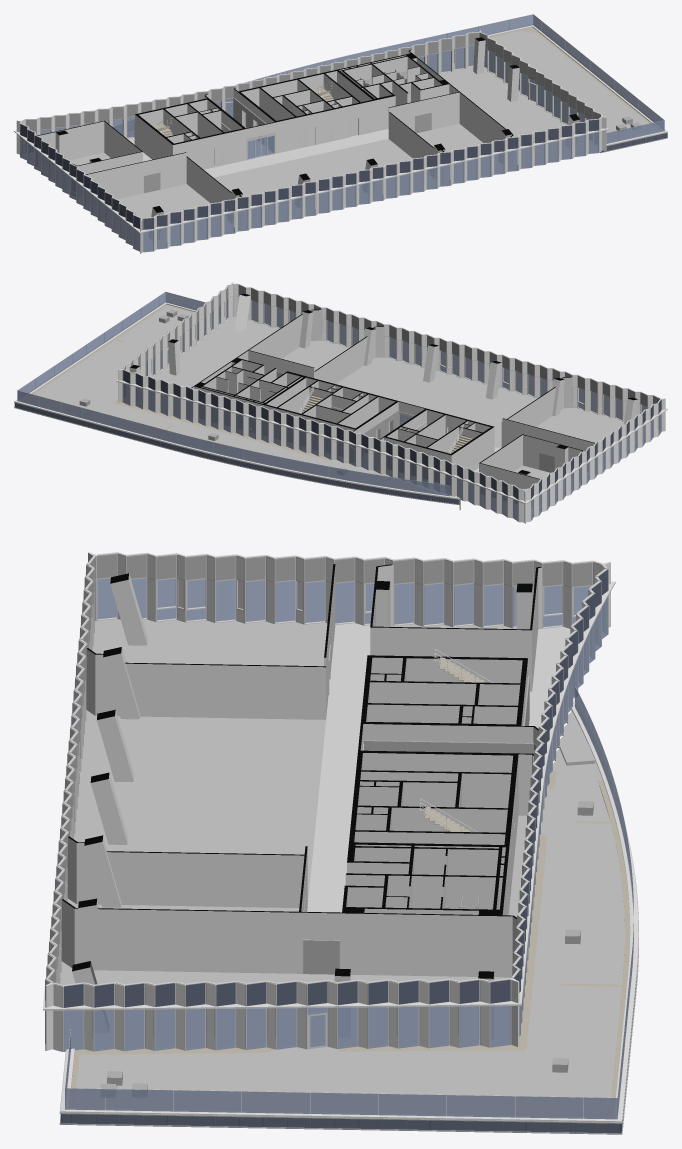
3 renders of one model, top to bottom at view 1: azimuth 30°, elevation 25°; view 2: azimuth 150°, elevation 25°; view 3: azimuth 270°, elevation 25°, orthographic. The views are drawn at different scales.
Visible parts, largest first — view 1: A5-5F_Wal, A5-5F_GlassFrame, A5-5F_Glass, A5-5F_Floor2, A5-5F_TerraceFloor, A5-5F_TerraceGlass, A5-5F_Exterior, A5-5F_Pillar, A5-5F_Door, A5-5F_AutoDoor, A5-5F_Wall2, A5-5F_Stairs; view 2: A5-5F_GlassFrame, A5-5F_Wal, A5-5F_Glass, A5-5F_Floor2, A5-5F_TerraceFloor, A5-5F_TerraceGlass, A5-5F_Exterior, A5-5F_Pillar, A5-5F_Wall2, A5-5F_Stairs, A5-5F_Door; view 3: A5-5F_Wal, A5-5F_Floor2, A5-5F_TerraceFloor, A5-5F_GlassFrame, A5-5F_Glass, A5-5F_Pillar, A5-5F_TerraceGlass, A5-5F_Exterior, A5-5F_Wall2, A5-5F_Floor, A5-5F_Door, A5-5F_Stairs.
Part boxes in pixels (box(x1,y1,x2,y2)): A5-5F_Wal: box(36, 49, 513, 229); A5-5F_GlassFrame: box(20, 32, 667, 252); A5-5F_Glass: box(20, 45, 667, 252); A5-5F_Floor2: box(22, 66, 597, 250); A5-5F_TerraceFloor: box(217, 27, 659, 141); A5-5F_TerraceGlass: box(244, 14, 664, 143); A5-5F_Exterior: box(14, 25, 667, 253); A5-5F_Pillar: box(55, 37, 580, 239); A5-5F_Door: box(143, 101, 431, 193); A5-5F_AutoDoor: box(246, 132, 275, 159); A5-5F_Wall2: box(134, 97, 273, 152); A5-5F_Stairs: box(153, 82, 333, 136); A5-5F_GlassFrame: box(14, 283, 661, 522); A5-5F_Wal: box(187, 309, 595, 503); A5-5F_Glass: box(14, 300, 661, 521); A5-5F_Floor2: box(124, 317, 651, 518); A5-5F_TerraceFloor: box(23, 304, 391, 483); A5-5F_TerraceGlass: box(17, 291, 449, 496); A5-5F_Exterior: box(14, 282, 667, 523); A5-5F_Pillar: box(129, 293, 638, 476); A5-5F_Wall2: box(351, 410, 450, 484); A5-5F_Stairs: box(296, 385, 472, 453); A5-5F_Door: box(250, 371, 554, 472); A5-5F_Wal: box(61, 564, 541, 977); A5-5F_Floor2: box(60, 619, 603, 1048); A5-5F_TerraceFloor: box(70, 771, 630, 1116); A5-5F_GlassFrame: box(45, 552, 638, 1134); A5-5F_Glass: box(46, 556, 636, 1133); A5-5F_Pillar: box(72, 573, 532, 1039); A5-5F_TerraceGlass: box(65, 686, 633, 1119); A5-5F_Exterior: box(43, 552, 638, 1122); A5-5F_Wall2: box(364, 676, 535, 753); A5-5F_Floor: box(553, 711, 624, 921); A5-5F_Door: box(302, 626, 514, 974); A5-5F_Stairs: box(420, 649, 493, 832).
Bounding box in the file's own units: 70.22 × 6.65 × 34.87.
